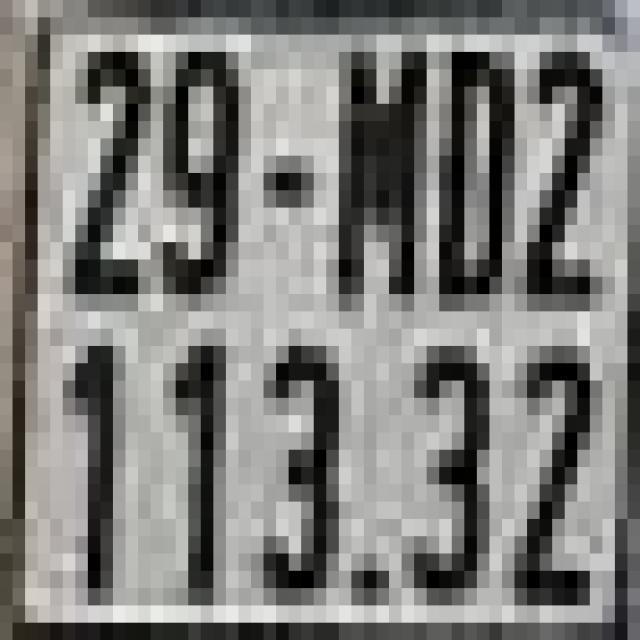1: (62, 346, 126, 606), (176, 346, 226, 606)
2: (514, 346, 602, 606), (75, 52, 151, 294), (526, 52, 602, 294)
3: (414, 346, 490, 588), (263, 346, 339, 588)
9: (164, 52, 238, 294)
D: (440, 52, 514, 294)
M: (326, 34, 427, 294)
